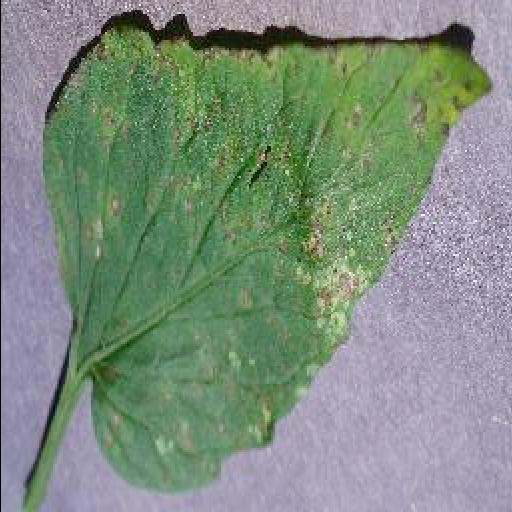disease_tomato: (40, 26, 494, 494)
